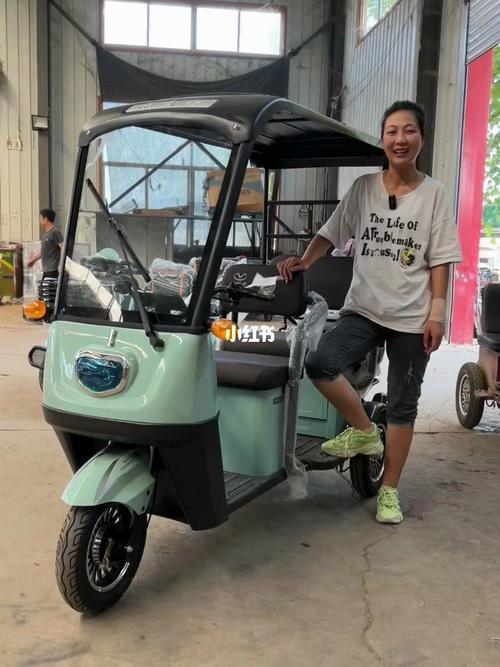empty: (32, 36, 443, 621)
